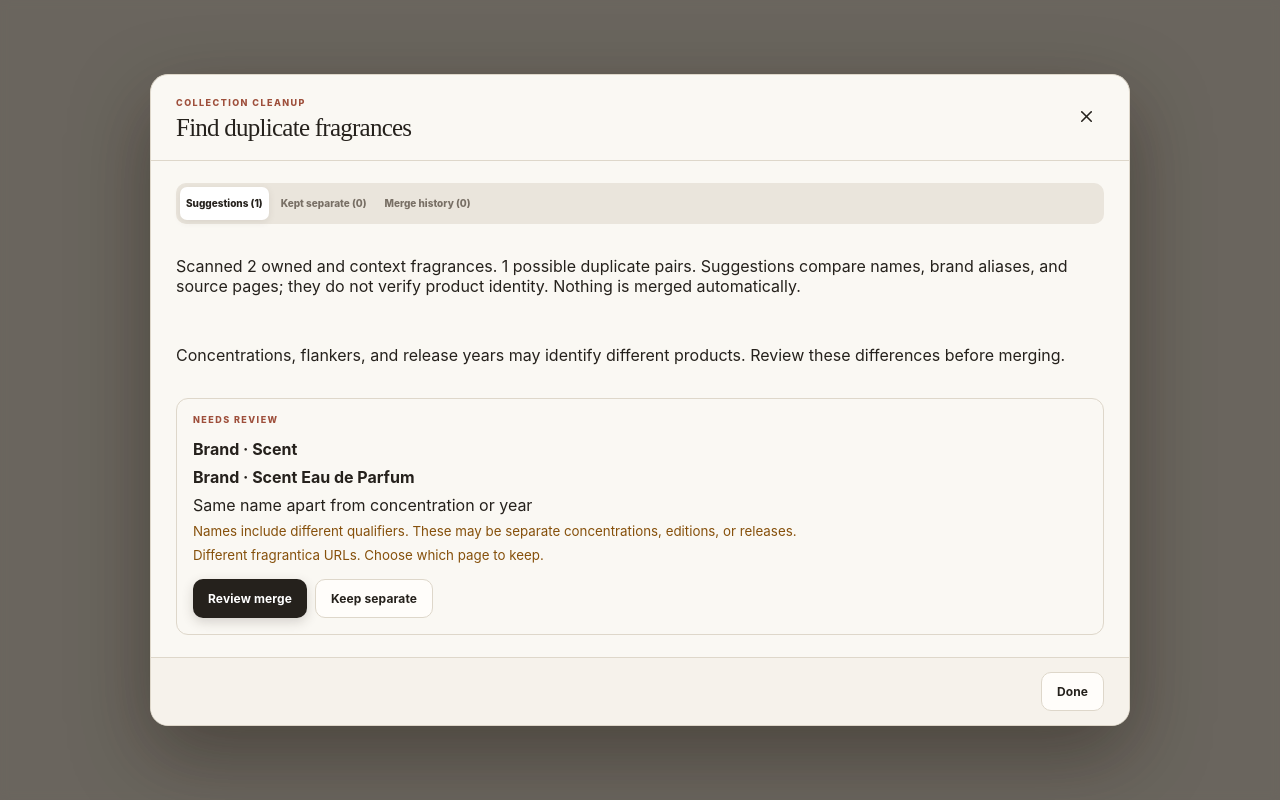
Test: duplicate review › requires URL selection before merging and exposes permanent history and undo
The width and height of the screenshot is (1280, 800).
Click the button "Review merge" at [250, 598], box [193, 579, 307, 618]
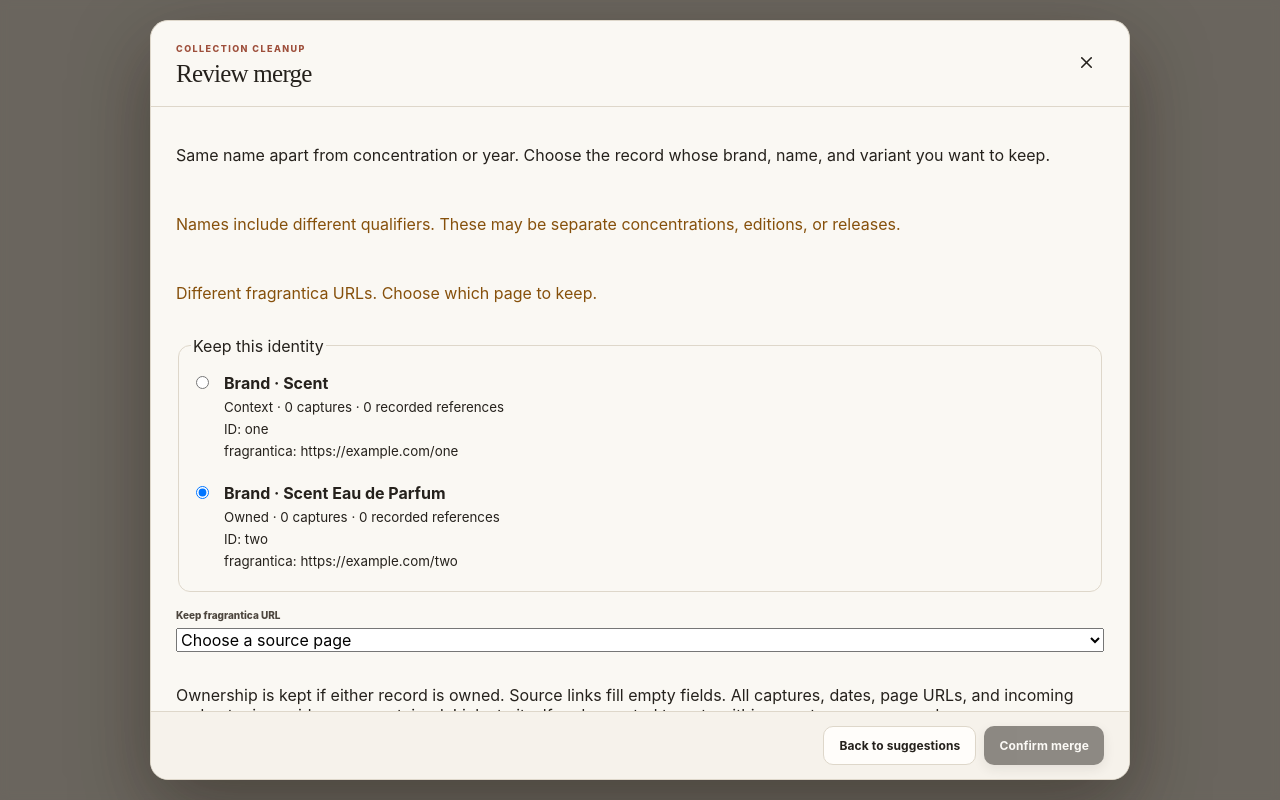
Now the radio button labelled "Scent Eau de Parfum" is checked, box [196, 486, 209, 499]
Now the button "Confirm merge" is disabled, box [984, 726, 1104, 765]
Select "https://example.com/one" in the dropdown labelled "Keep fragrantica URL" at [640, 640], box [176, 628, 1104, 652]
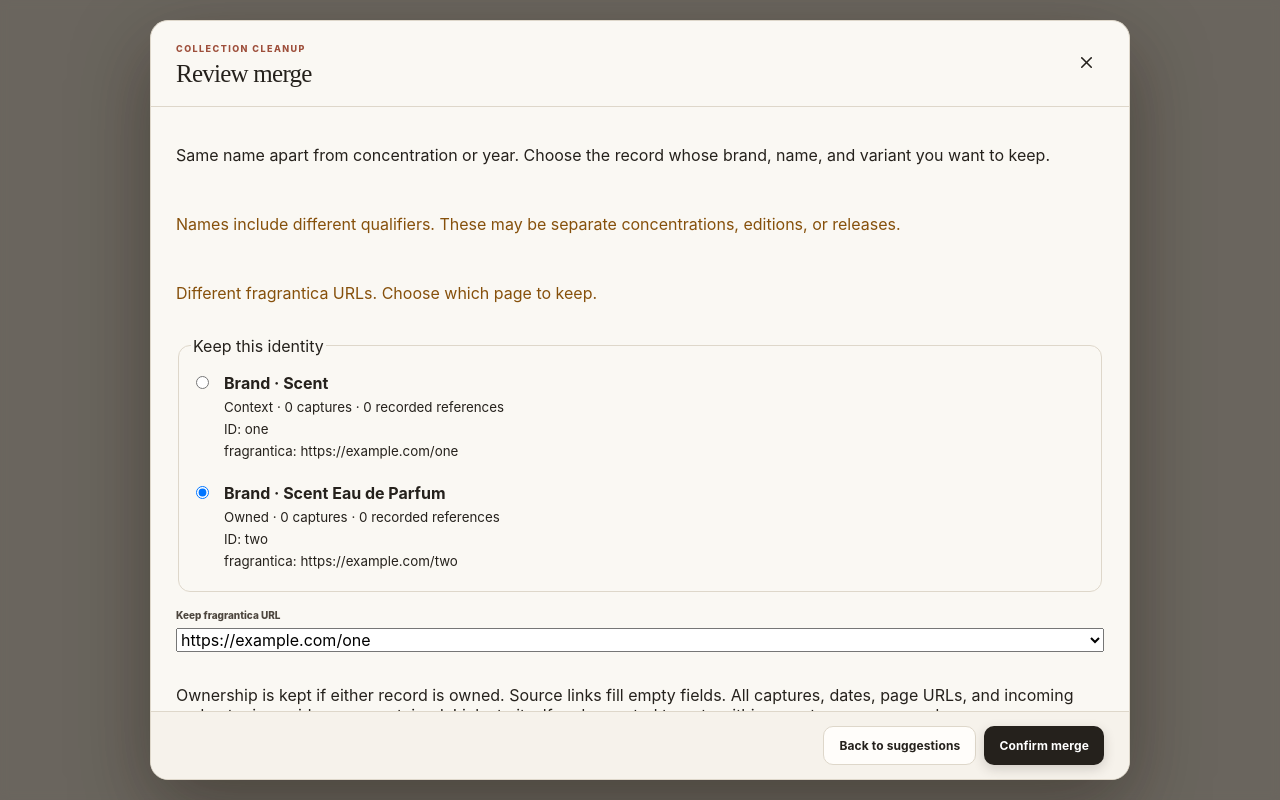
Click the button "Confirm merge" at [1044, 746], box [984, 726, 1104, 765]
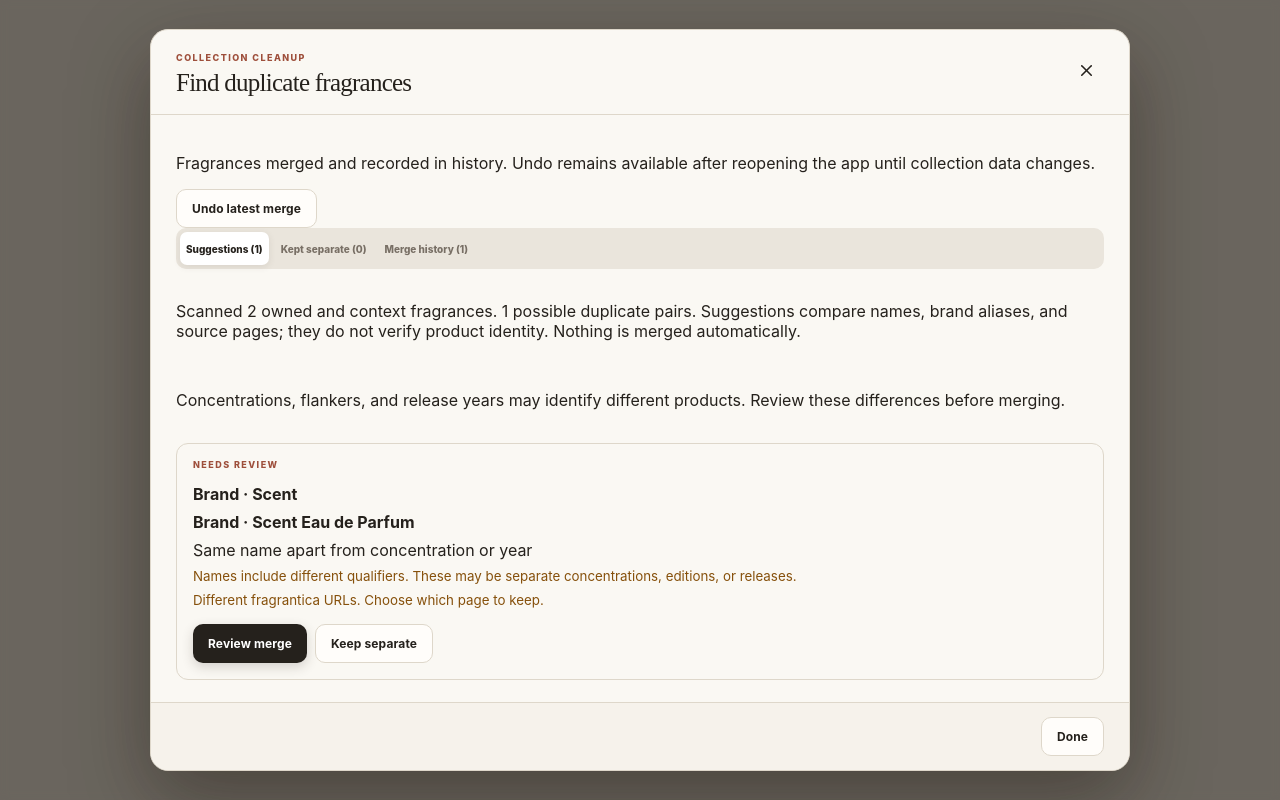
Now the button "Undo latest merge" is enabled, box [176, 189, 317, 228]
Click the tab "Merge history (1)" at [426, 249], box [378, 232, 474, 265]
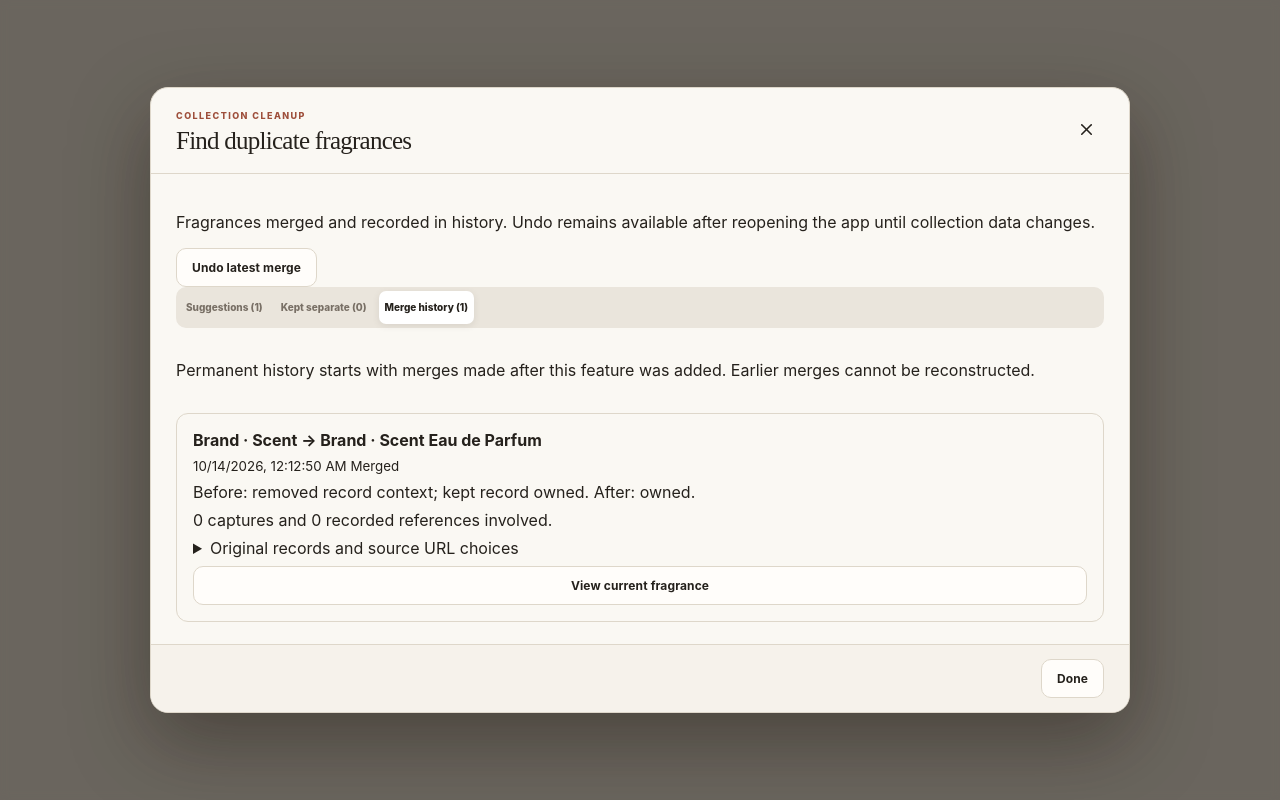
Now the text "Before: removed record" is shown, box [193, 482, 377, 502]
Click the button "Undo latest merge" at [247, 267], box [176, 248, 317, 287]
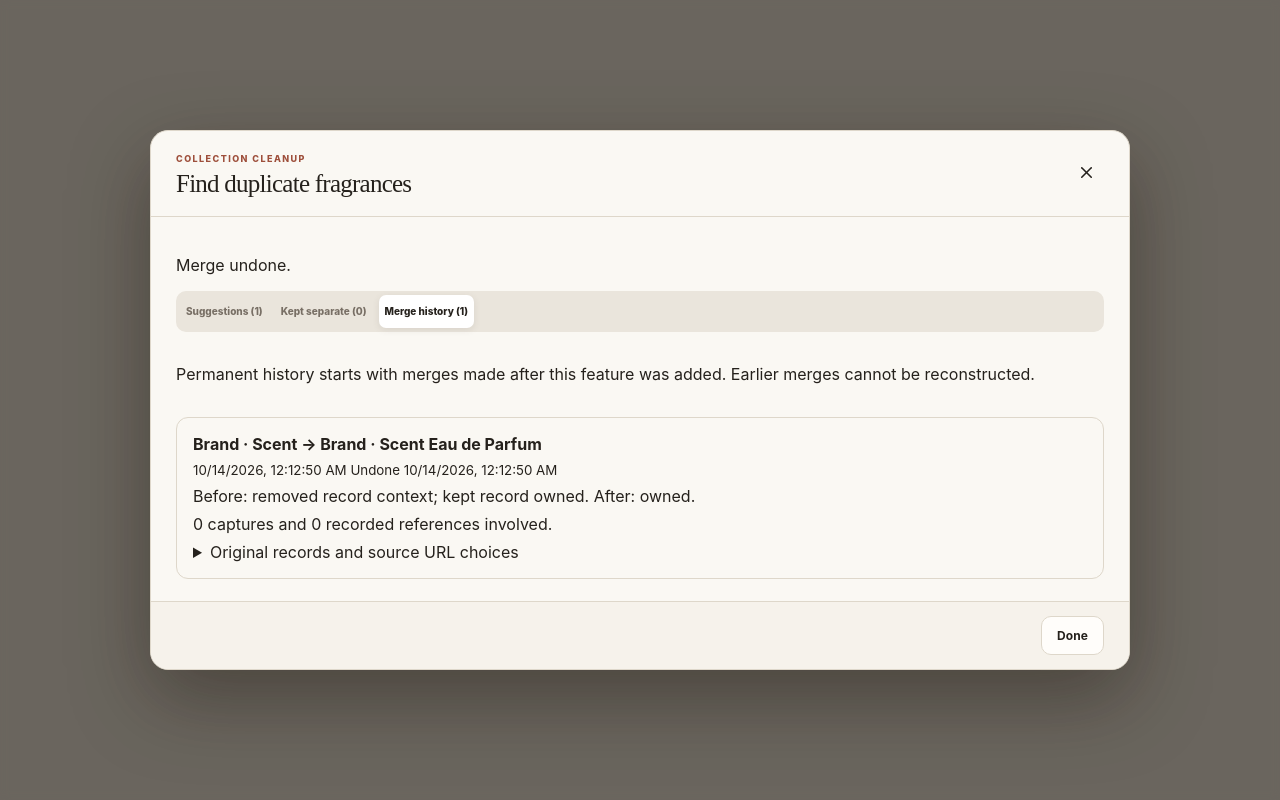
Now the text "10/14/2026, 12:12:50 AM Undone 10/14/2026, 12:12:50 AM" is shown, box [193, 462, 557, 478]
